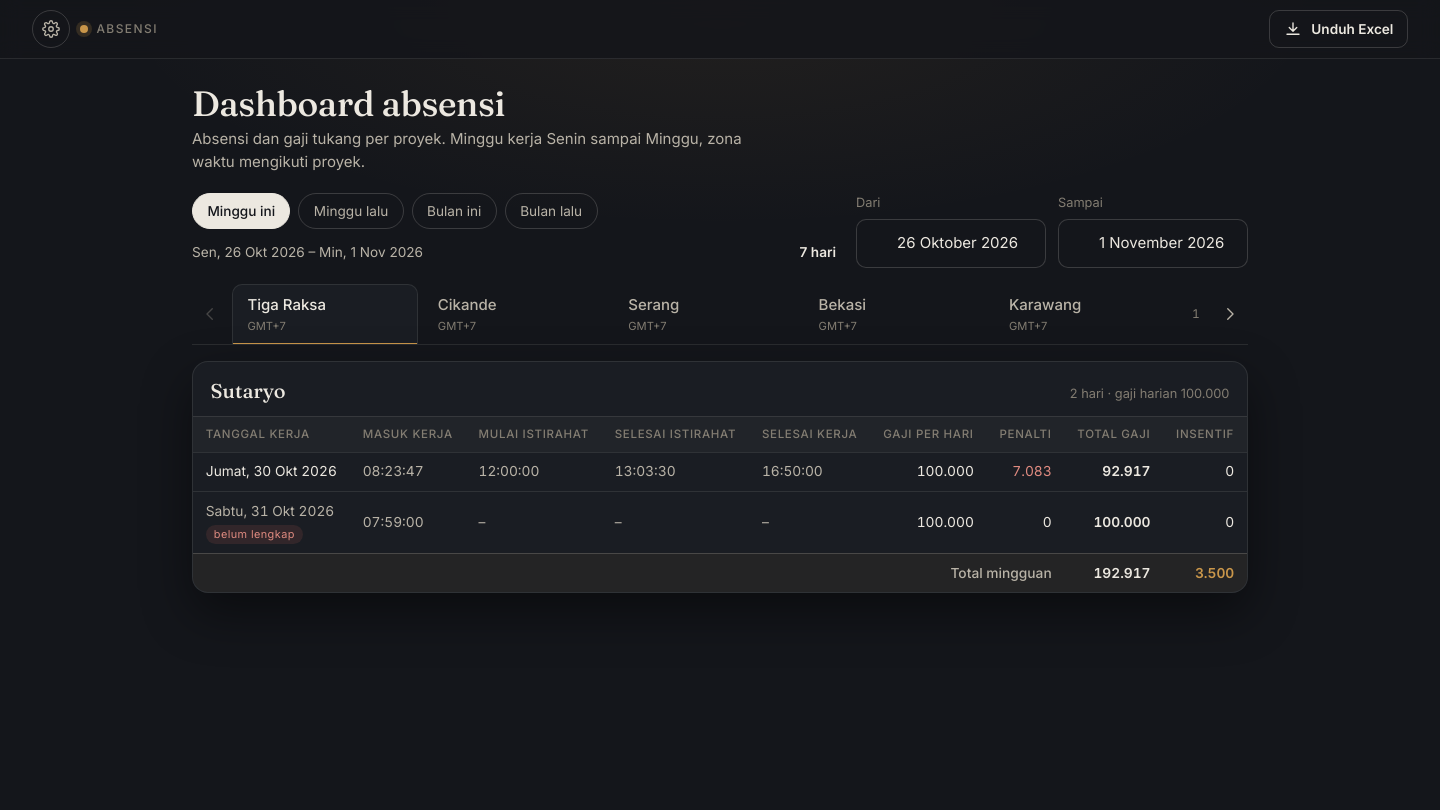
Test case: selecting a tab loads that project and the arrows page through projects
Click the tab "Cikande GMT+7".
click(516, 314)  # box [422,284,609,344]
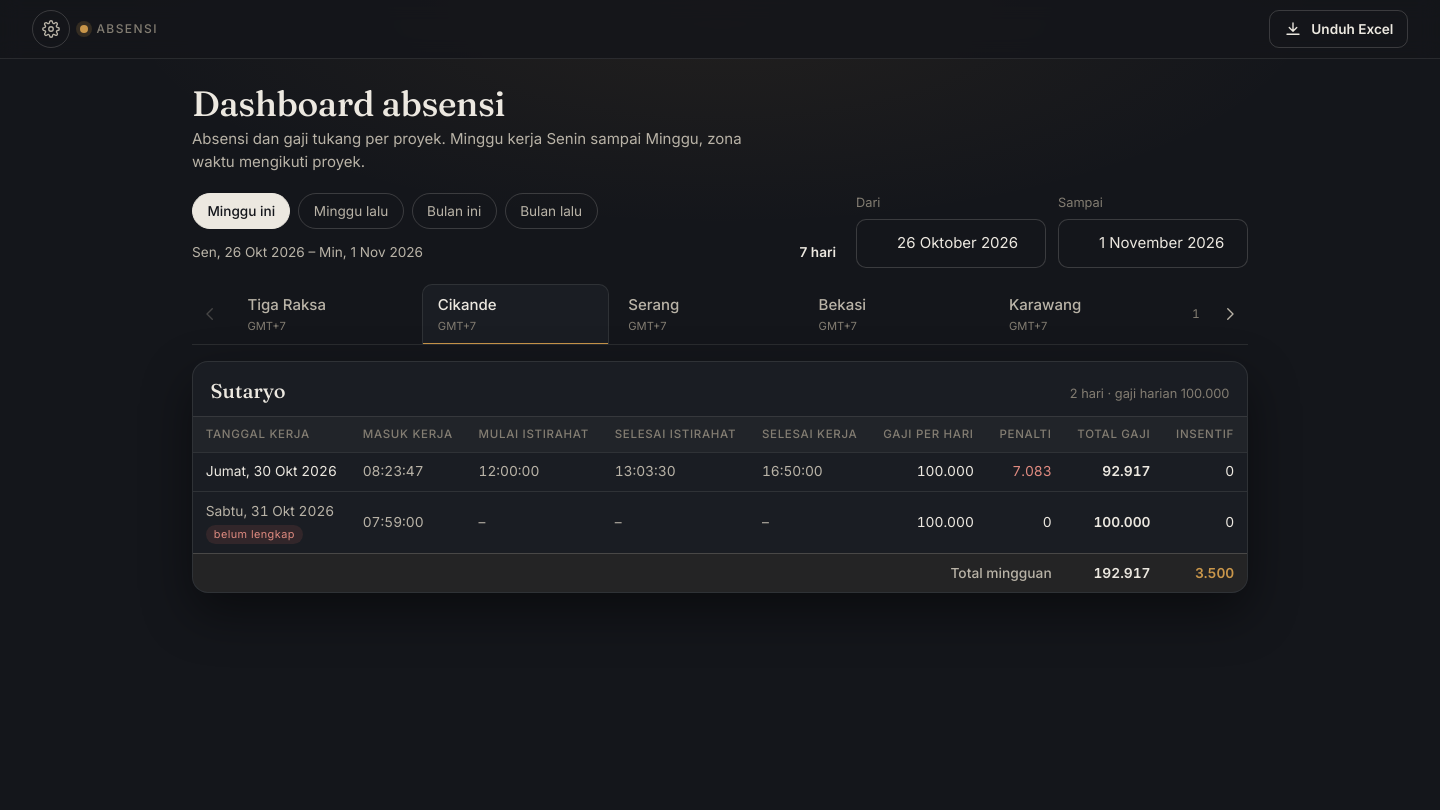
expect the button named "Proyek sebelumnya" is disabled: met, box [192,284,228,344]
Click the button named "Proyek berikutnya".
click(1230, 314)  # box [1212,284,1248,344]
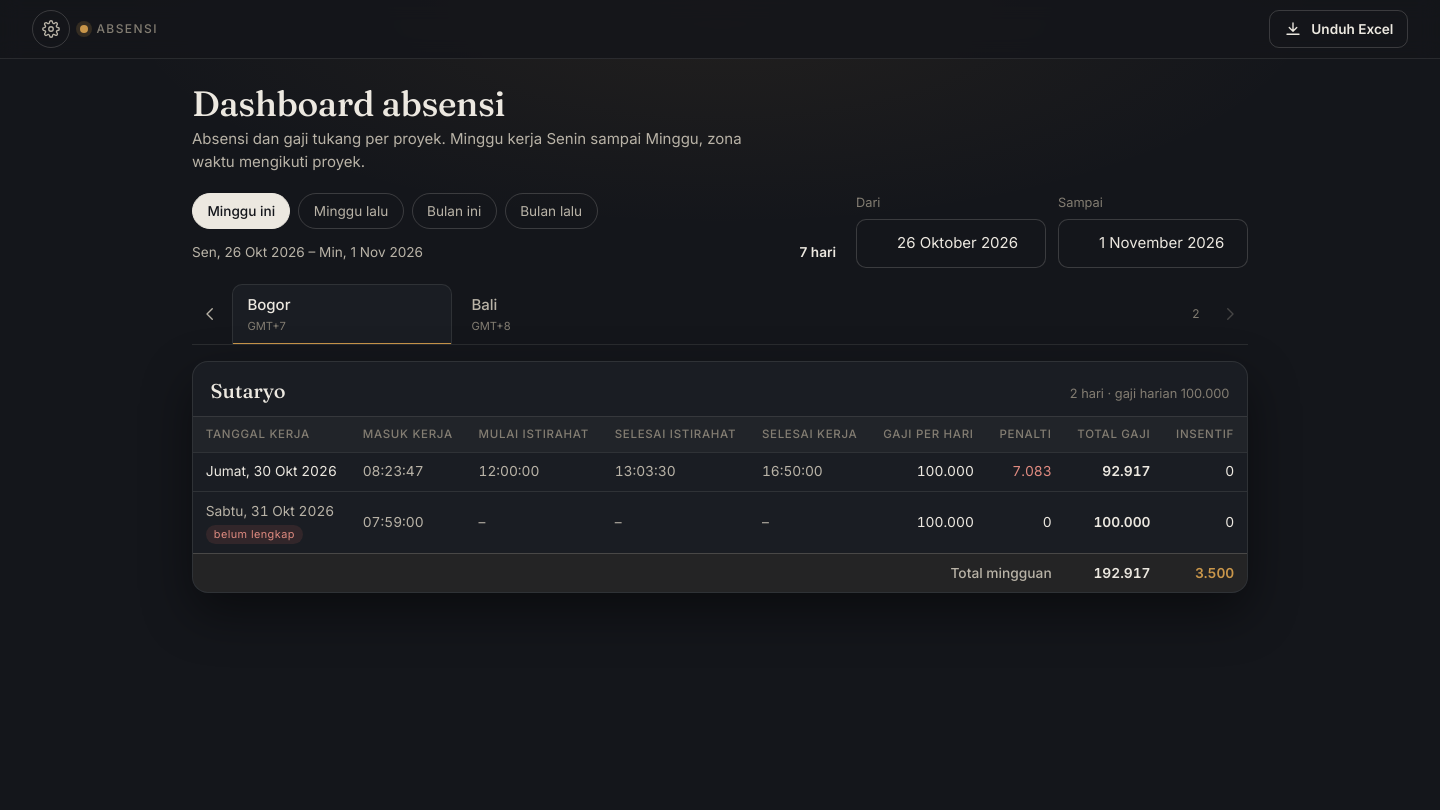
expect the tabs read "BogorGMT+7", "BaliGMT+8", in this order: met, box [232,284,452,344]; [456,284,676,344]
expect the button named "Proyek berikutnya" is disabled: met, box [1212,284,1248,344]
expect the button named "Proyek sebelumnya" is enabled: met, box [192,284,228,344]
